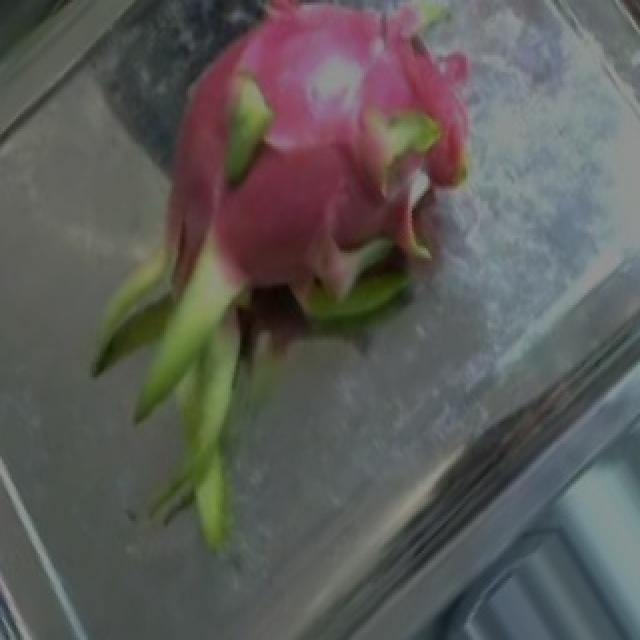fruit: (108, 0, 552, 422)
